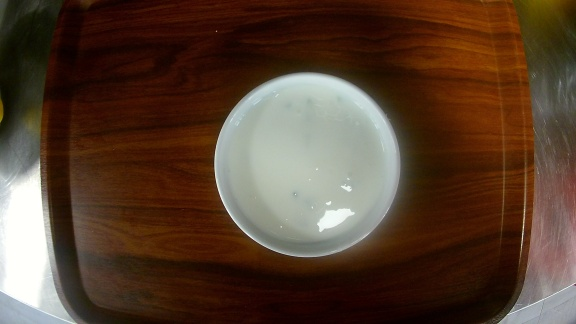cacik: (213, 74, 402, 259)
